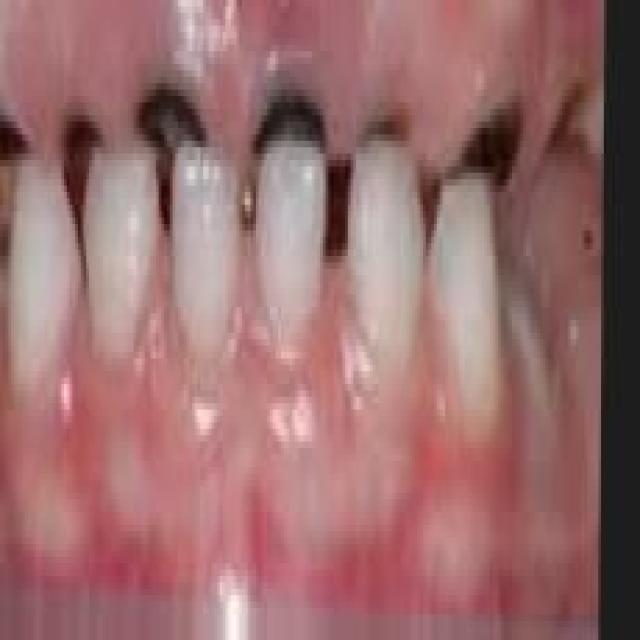caries: (432, 71, 528, 216), (134, 63, 216, 204), (249, 51, 333, 187), (51, 78, 118, 202), (354, 66, 422, 182), (0, 85, 43, 200)
